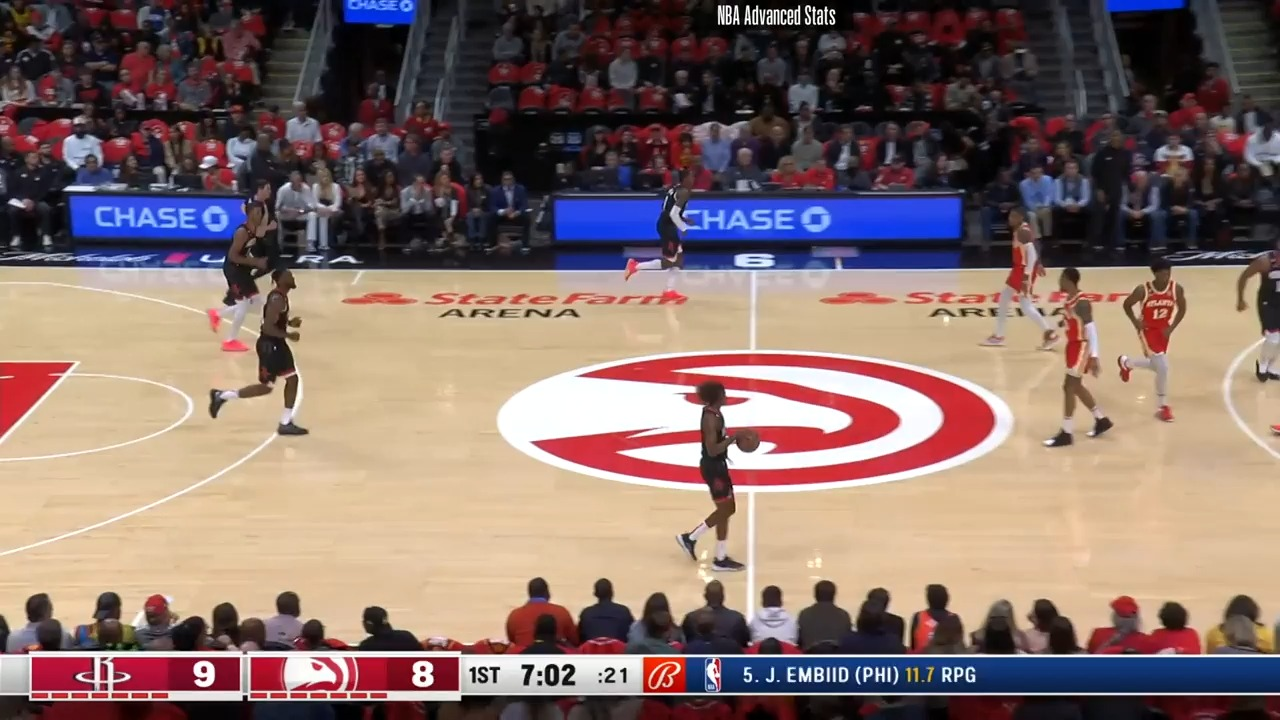player: (210, 267, 313, 444), (680, 374, 755, 578), (1035, 269, 1116, 454), (1115, 256, 1190, 429), (976, 203, 1053, 354), (211, 200, 275, 355), (634, 167, 700, 308), (1236, 231, 1280, 391)
referee: (252, 175, 285, 286)
